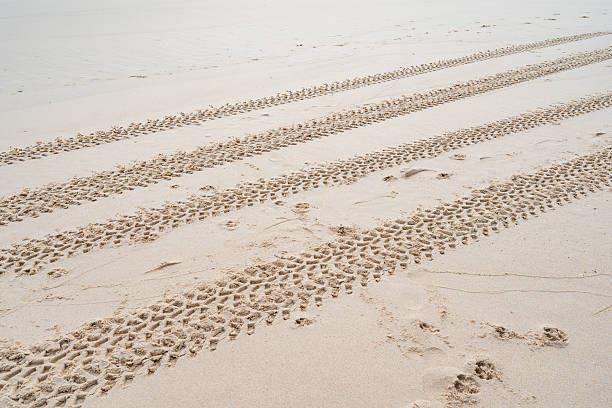vehicle_track: (0, 147, 611, 407), (0, 92, 611, 273), (0, 47, 611, 225), (0, 32, 609, 164)
